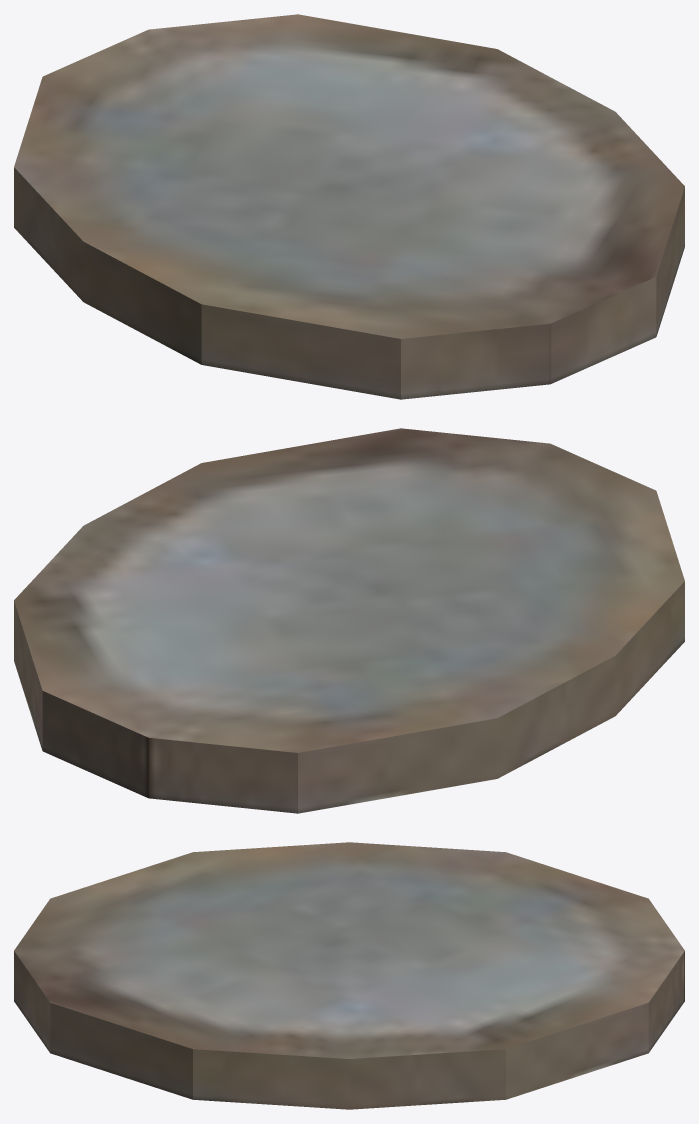
The model's file is prop_pictureframe02.glb.
3 renders of one model, top to bottom at view 1: azimuth 30°, elevation 25°; view 2: azimuth 150°, elevation 25°; view 3: azimuth 270°, elevation 25°, orthographic. The views are drawn at different scales.
Size of the model in its own units: 9.18 by 1 by 12.01.
1 material, 1 textured.
